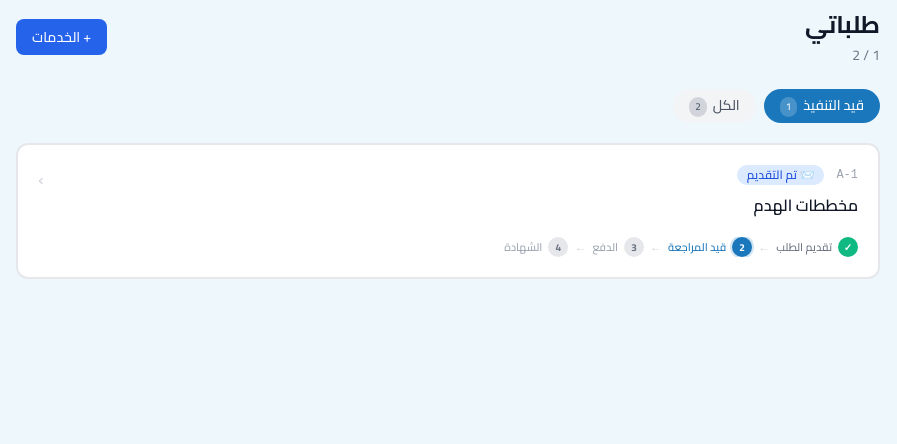
Test: MyApplications › reveals every application (including terminal ones) after clicking "الكل"
Expected: the text "A-1" is shown, left=836, top=167, right=858, bottom=183
Expected: the text "A-2" is not shown
Click the tab "الكل 2" at (714, 106), box left=673, top=89, right=756, bottom=123
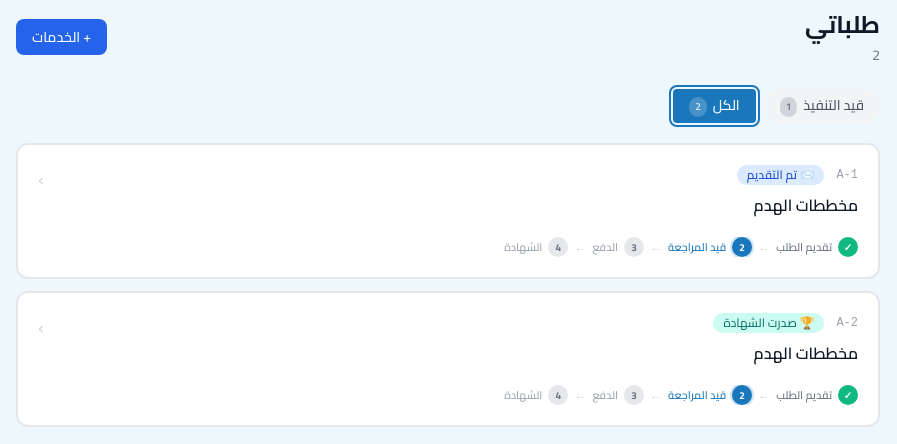
Expected: the text "A-1" is shown, left=836, top=167, right=858, bottom=183
Now the text "A-2" is shown, box left=836, top=315, right=858, bottom=331
